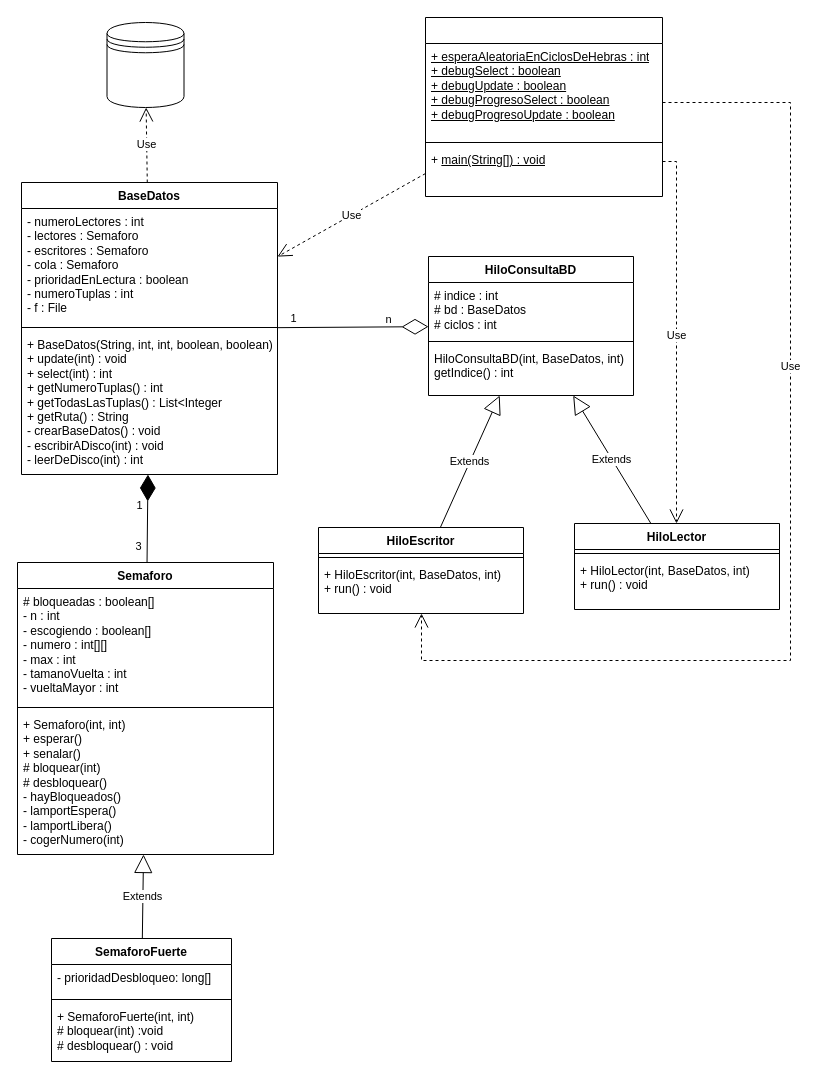
The diagram is 822 pixels wide and 1082 high, and some of its shapes have lost their labels. Here are the shapes that lost their labels. From the top down, the box of each, then its label:
(106, 22, 184, 108): Archivo Base Datos
(424, 16, 662, 196): MainBaseDatos
